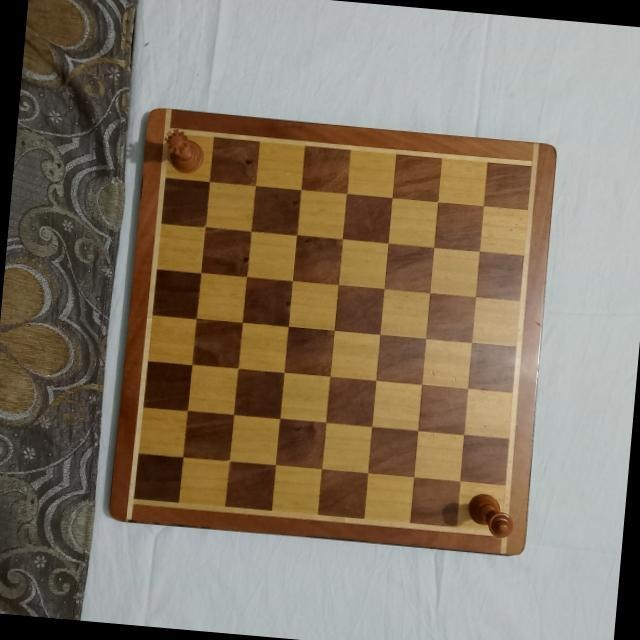white-king: (462, 491, 516, 538)
white-queen: (159, 129, 205, 175)
